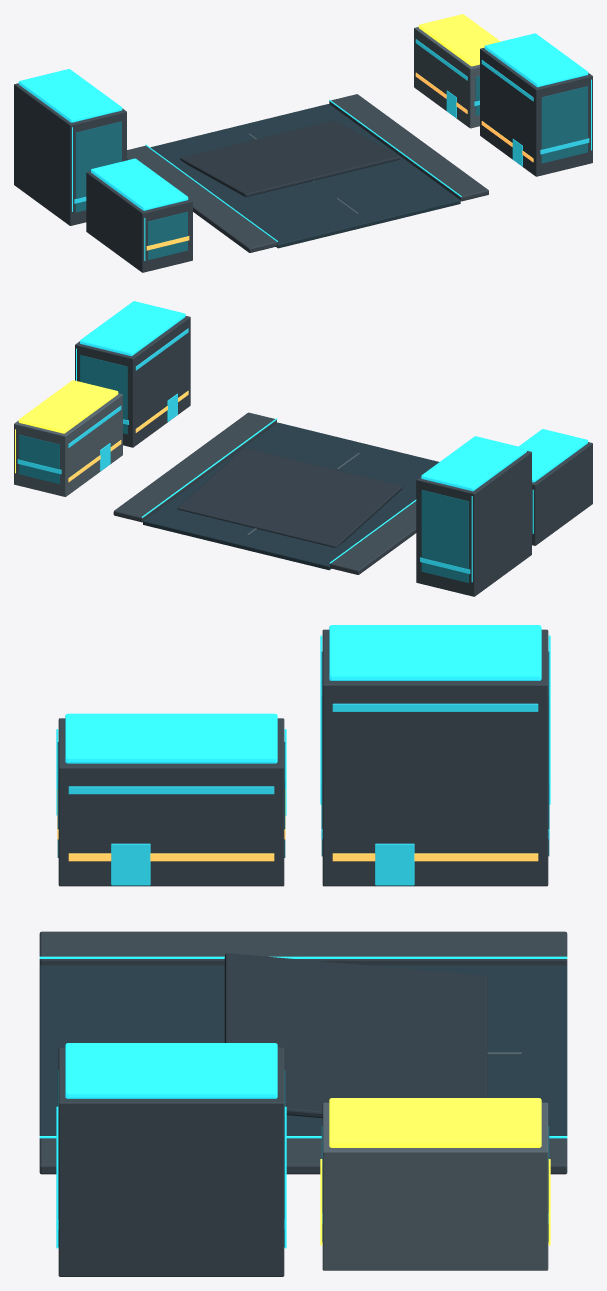
Rendered from ramp_down_lod2.glb.
3 renders of one model, top to bottom at view 1: azimuth 30°, elevation 25°; view 2: azimuth 150°, elevation 25°; view 3: azimuth 270°, elevation 25°, orthographic. The views are drawn at different scales.
Visible parts, largest first — view 1: ND_Batch_ND_CityConcrete, ND_Batch_ND_WetAsphalt, ND_Batch_ND_CityCyanMuted, ND_Batch_ND_RooftopMetal, ND_Batch_ND_RoadEdge, ND_Batch_ND_DarkGlass, ND_Batch_ND_CityConcreteLight, ND_Batch_ND_PackageGold, ND_Batch_ND_NeonGlass, ND_Batch_ND_WarmWindow; view 2: ND_Batch_ND_CityConcrete, ND_Batch_ND_RooftopMetal, ND_Batch_ND_WetAsphalt, ND_Batch_ND_CityCyanMuted, ND_Batch_ND_DarkGlass, ND_Batch_ND_RoadEdge, ND_Batch_ND_CityConcreteLight, ND_Batch_ND_PackageGold, ND_Batch_ND_NeonGlass, ND_Batch_ND_WarmWindow; view 3: ND_Batch_ND_CityConcrete, ND_Batch_ND_CityCyanMuted, ND_Batch_ND_RooftopMetal, ND_Batch_ND_WetAsphalt, ND_Batch_ND_CityConcreteLight, ND_Batch_ND_RoadEdge, ND_Batch_ND_PackageGold, ND_Batch_ND_NeonGlass, ND_Batch_ND_WarmWindow, ND_Batch_ND_DarkGlass.
Part boxes in pixels (box(x1,y1,x2,y2)): ND_Batch_ND_CityConcrete: box(14, 47, 592, 272); ND_Batch_ND_WetAsphalt: box(150, 104, 460, 248); ND_Batch_ND_CityCyanMuted: box(18, 33, 591, 260); ND_Batch_ND_RooftopMetal: box(180, 120, 400, 197); ND_Batch_ND_RoadEdge: box(127, 94, 488, 252); ND_Batch_ND_DarkGlass: box(75, 76, 587, 260); ND_Batch_ND_CityConcreteLight: box(248, 27, 479, 213); ND_Batch_ND_PackageGold: box(418, 14, 500, 66); ND_Batch_ND_NeonGlass: box(74, 39, 589, 203); ND_Batch_ND_WarmWindow: box(146, 72, 533, 250); ND_Batch_ND_CityConcrete: box(75, 316, 592, 596); ND_Batch_ND_RooftopMetal: box(177, 447, 402, 547); ND_Batch_ND_WetAsphalt: box(143, 422, 439, 570); ND_Batch_ND_CityCyanMuted: box(76, 301, 588, 582); ND_Batch_ND_DarkGlass: box(19, 355, 468, 582); ND_Batch_ND_RoadEdge: box(113, 412, 416, 574); ND_Batch_ND_CityConcreteLight: box(14, 393, 359, 534); ND_Batch_ND_PackageGold: box(15, 380, 118, 473); ND_Batch_ND_NeonGlass: box(17, 328, 470, 573); ND_Batch_ND_WarmWindow: box(68, 390, 188, 482); ND_Batch_ND_CityConcrete: box(58, 629, 548, 1276); ND_Batch_ND_CityCyanMuted: box(39, 625, 567, 1248); ND_Batch_ND_RooftopMetal: box(224, 953, 487, 1118); ND_Batch_ND_WetAsphalt: box(39, 965, 567, 1139); ND_Batch_ND_CityConcreteLight: box(322, 1052, 548, 1270); ND_Batch_ND_RoadEdge: box(39, 931, 567, 1174); ND_Batch_ND_PackageGold: box(320, 1098, 550, 1245); ND_Batch_ND_NeonGlass: box(58, 703, 549, 1229); ND_Batch_ND_WarmWindow: box(57, 789, 538, 861); ND_Batch_ND_DarkGlass: box(57, 651, 549, 1246).
Bounding box in the file's own units: 40 × 9.1 × 20.
